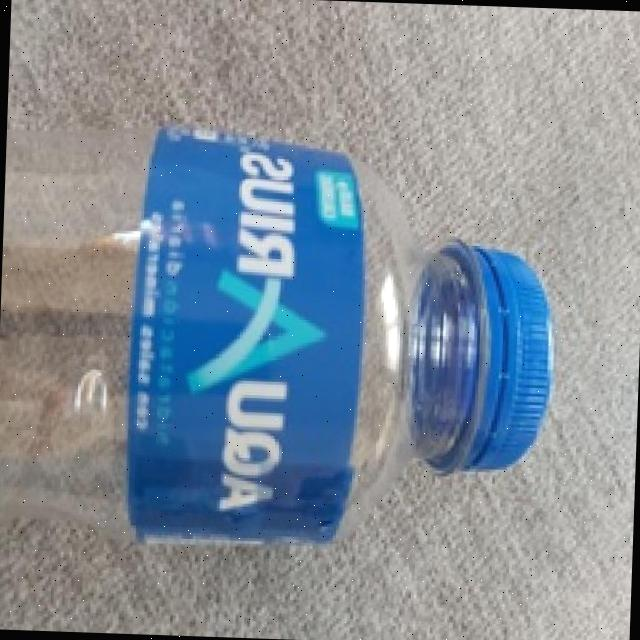bottle: (0, 109, 582, 629)
cap: (410, 241, 560, 484)
label: (110, 132, 392, 555)
